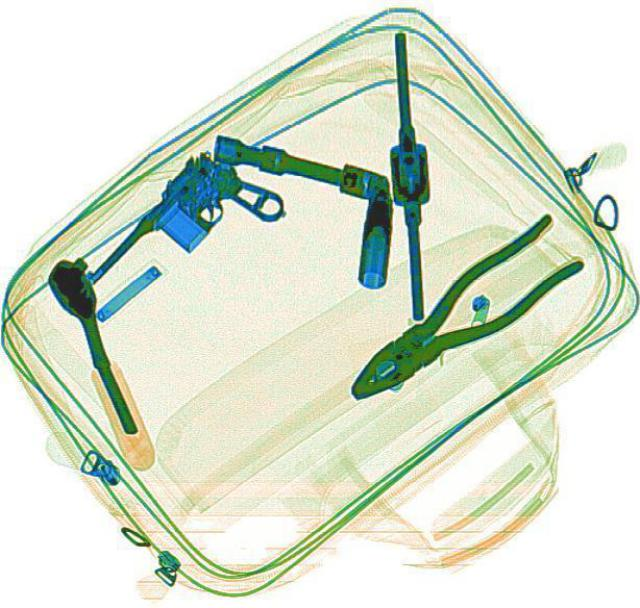Gun: (76, 141, 290, 336)
Pliers: (305, 190, 617, 442)
